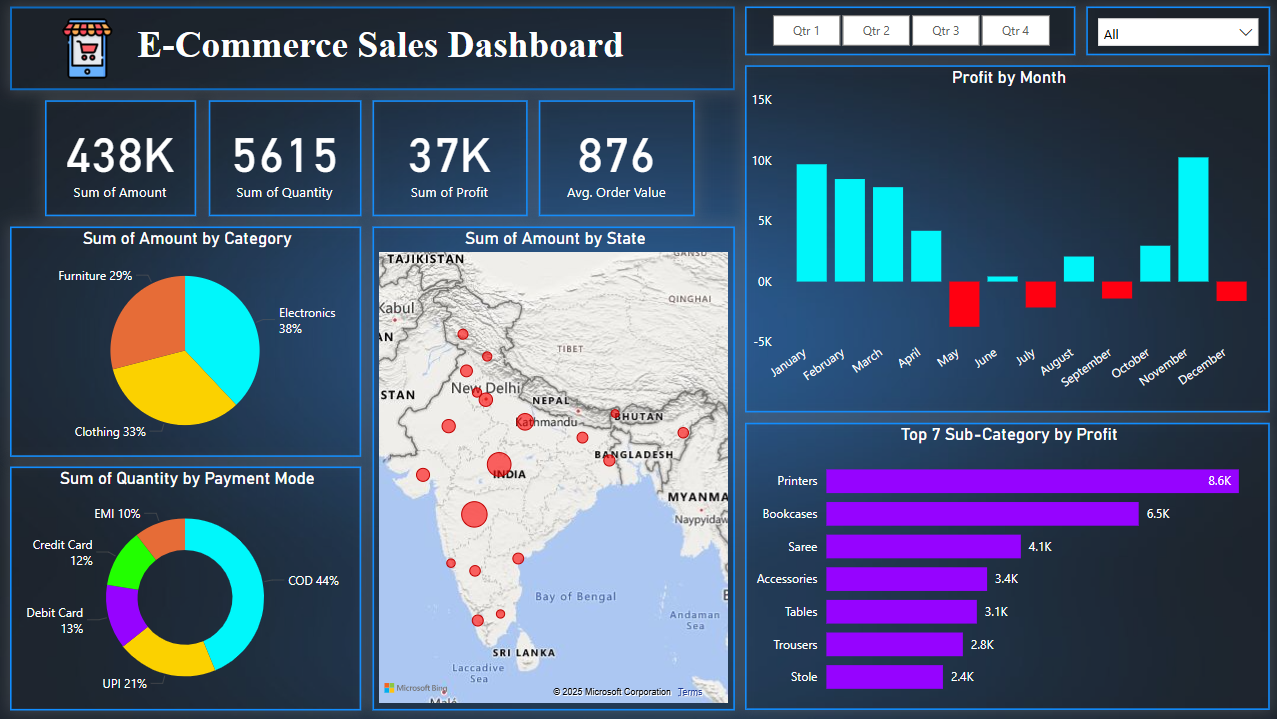

What the dashboard file says about the page in this screenshot:
{"tool":"powerbi","page":{"name":"Dashboard","canvas":[1280,720],"ordinal":0},"visuals":[{"type":"card","fields":{"Values":["Sum(Details.Amount)"]},"box":[45,101.2,151.2,116.2],"z":0},{"type":"card","fields":{"Values":["Sum(Details.Profit)"]},"box":[372.5,101.2,155,116.2],"z":1000},{"type":"card","fields":{"Values":["Sum(Details.Quantity)"]},"box":[208.8,101.2,152.5,116.2],"z":2000},{"type":"card","fields":{"Values":["Details.AOV"]},"box":[538.8,101.2,156.2,116.2],"z":3000},{"type":"columnChart","title":"Profit by Month","fields":{"Category":["Orders.Order Date.Variation.Date Hierarchy.Month"],"Y":["Sum(Details.Profit)"]},"box":[745,66.2,525,347.5],"z":4000},{"type":"pieChart","fields":{"Category":["Details.Category"],"Y":["Sum(Details.Amount)"]},"box":[10,227.5,351.2,230],"z":7000},{"type":"donutChart","title":"Sum of Quantity by Payment Mode","fields":{"Y":["Sum(Details.Quantity)"],"Category":["Details.PaymentMode"]},"box":[10,467,351.2,243.8],"z":8000},{"type":"barChart","title":"Top 7 Sub-Category by Profit","fields":{"Y":["Sum(Details.Profit)"],"Category":["Details.Sub-Category"]},"box":[745,423.8,525,287.5],"z":9000},{"type":"slicer","fields":{"Values":["Orders.State"]},"box":[1086.2,7.5,183.8,48.8],"z":10000},{"type":"slicer","fields":{"Values":["Orders.Order Date.Variation.Date Hierarchy.Quarter"]},"box":[745,7.5,330,48.8],"z":11000},{"type":"shape","box":[10,7.5,725,83.8],"z":12000},{"type":"textbox","box":[130,23.8,501.2,48.8],"z":13000},{"type":"image","box":[45,17.5,85,63.8],"z":14000},{"type":"map","fields":{"Category":["Orders.State"],"Size":["Sum(Details.Amount)"]},"box":[372.5,227.5,362.5,483.8],"z":14001}]}

Visuals, with their boxes in screenshot pixels (x1, y1, x2, y2), scaled from the page's 1280x720 canvas onto the 1277x719 screenshot:
card - Sum(Details.Amount): 45 101 196 217
card - Sum(Details.Profit): 372 101 526 217
card - Sum(Details.Quantity): 208 101 360 217
card - Details.AOV: 538 101 693 217
"Profit by Month" columnChart: 743 66 1267 413
pieChart - Details.Category x Sum(Details.Amount): 10 227 360 457
"Sum of Quantity by Payment Mode" donutChart: 10 466 360 710
"Top 7 Sub-Category by Profit" barChart: 743 423 1267 710
slicer - Orders.State: 1084 7 1267 56
slicer - Orders.Order Date.Variation.Date Hierarchy.Quarter: 743 7 1072 56
shape: 10 7 733 91
textbox: 130 24 630 72
image: 45 17 130 81
map - Orders.State x Sum(Details.Amount): 372 227 733 710
